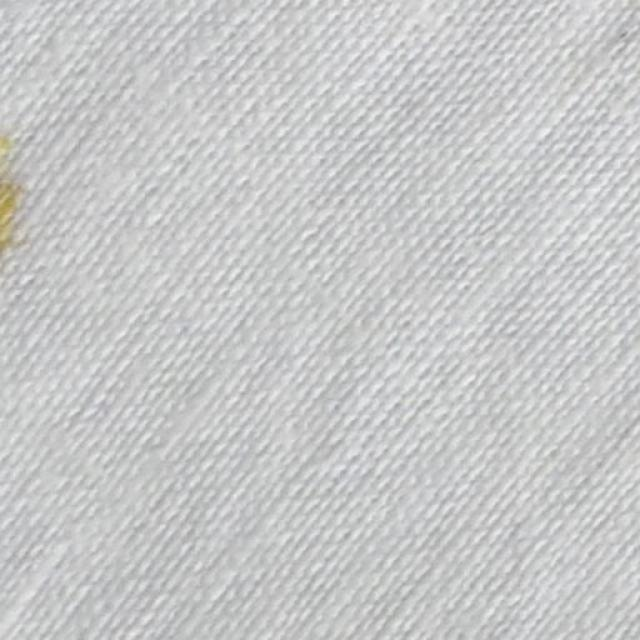Stain: (0, 148, 31, 254)
